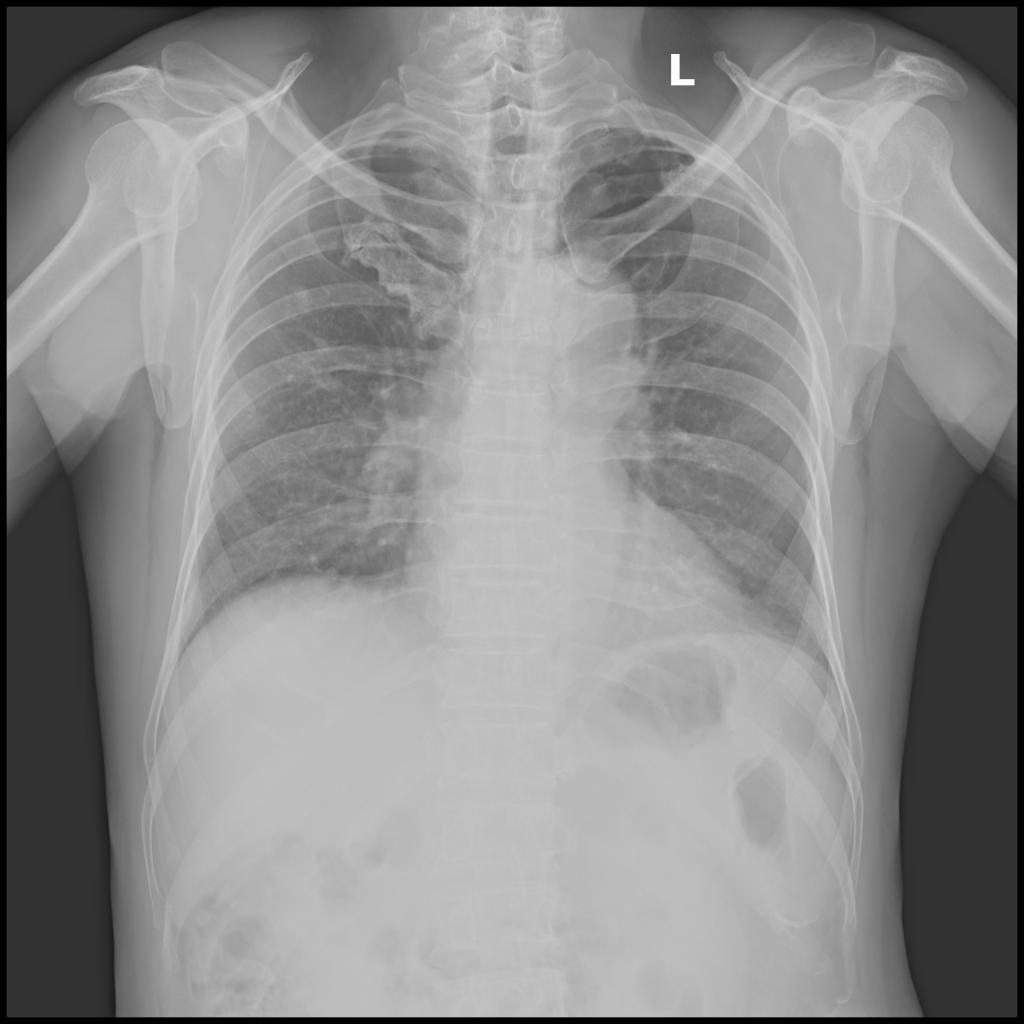Nodule: (292, 284, 311, 301), (286, 373, 297, 386)
